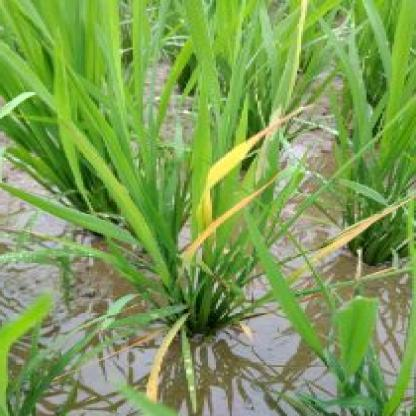Tungro: (194, 105, 288, 245)
